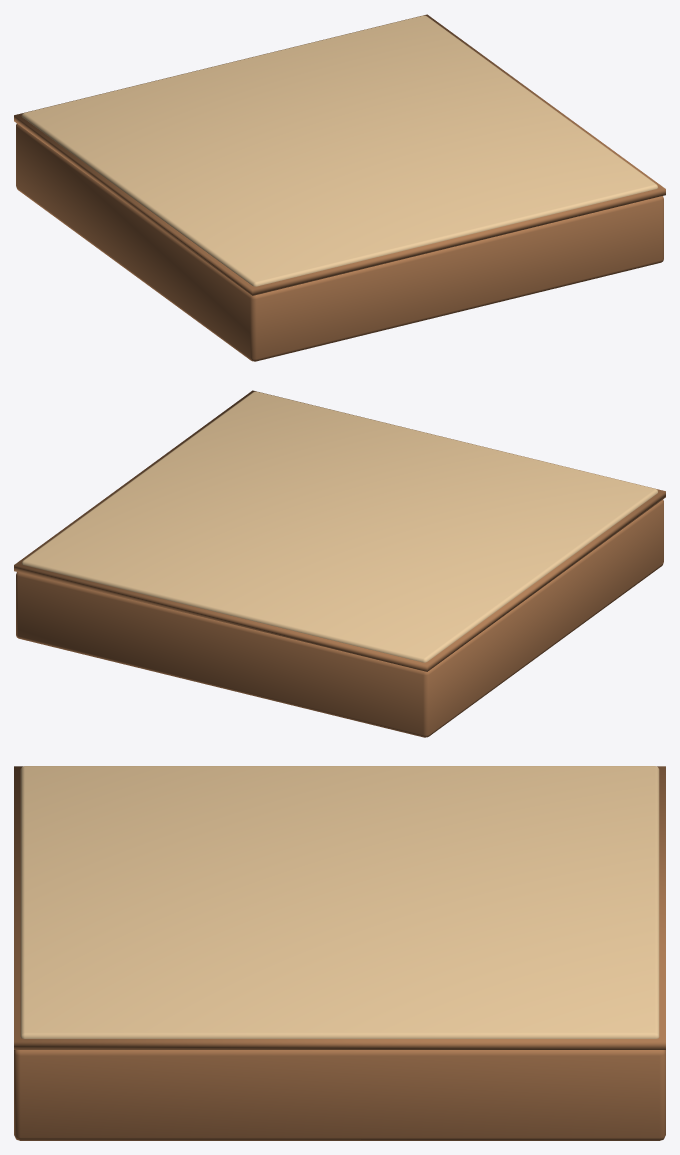
File: floor-tile.glb
3 views of the same model, one above another, from view 1: azimuth 30°, elevation 25°; view 2: azimuth 150°, elevation 25°; view 3: azimuth 270°, elevation 25° (orthographic). The views are drawn at different scales.
Visible parts, largest first — view 1: ShellFloorTile_Top, ShellFloorTile_Plinth, ShellFloorTile_Grout; view 2: ShellFloorTile_Top, ShellFloorTile_Plinth, ShellFloorTile_Grout; view 3: ShellFloorTile_Top, ShellFloorTile_Plinth, ShellFloorTile_Grout.
Part boxes in pixels (bbox=[...]): ShellFloorTile_Top: bbox=[22, 15, 657, 286]; ShellFloorTile_Plinth: bbox=[16, 123, 663, 361]; ShellFloorTile_Grout: bbox=[14, 14, 665, 295]; ShellFloorTile_Top: bbox=[22, 391, 657, 662]; ShellFloorTile_Plinth: bbox=[16, 499, 663, 737]; ShellFloorTile_Grout: bbox=[14, 390, 665, 671]; ShellFloorTile_Top: bbox=[20, 766, 659, 1038]; ShellFloorTile_Plinth: bbox=[14, 1050, 665, 1140]; ShellFloorTile_Grout: bbox=[14, 766, 665, 1049].
Bounding box in the file's own units: 1 × 0.18 × 1.
